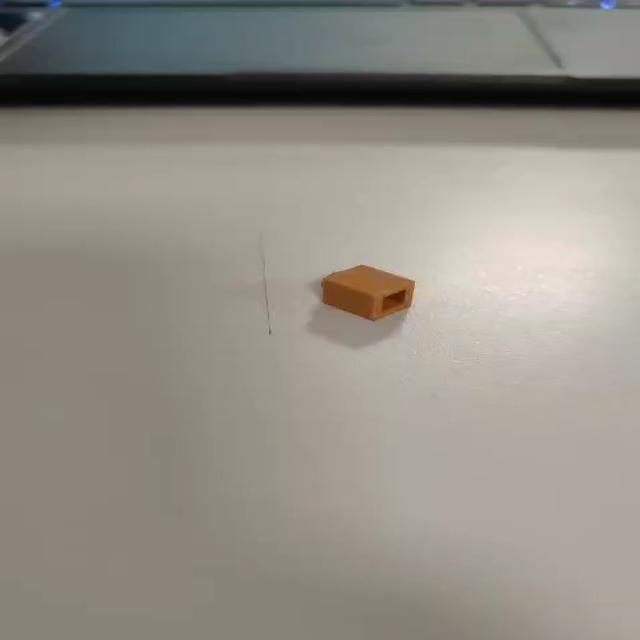C1x1x1: (320, 262, 418, 321)
